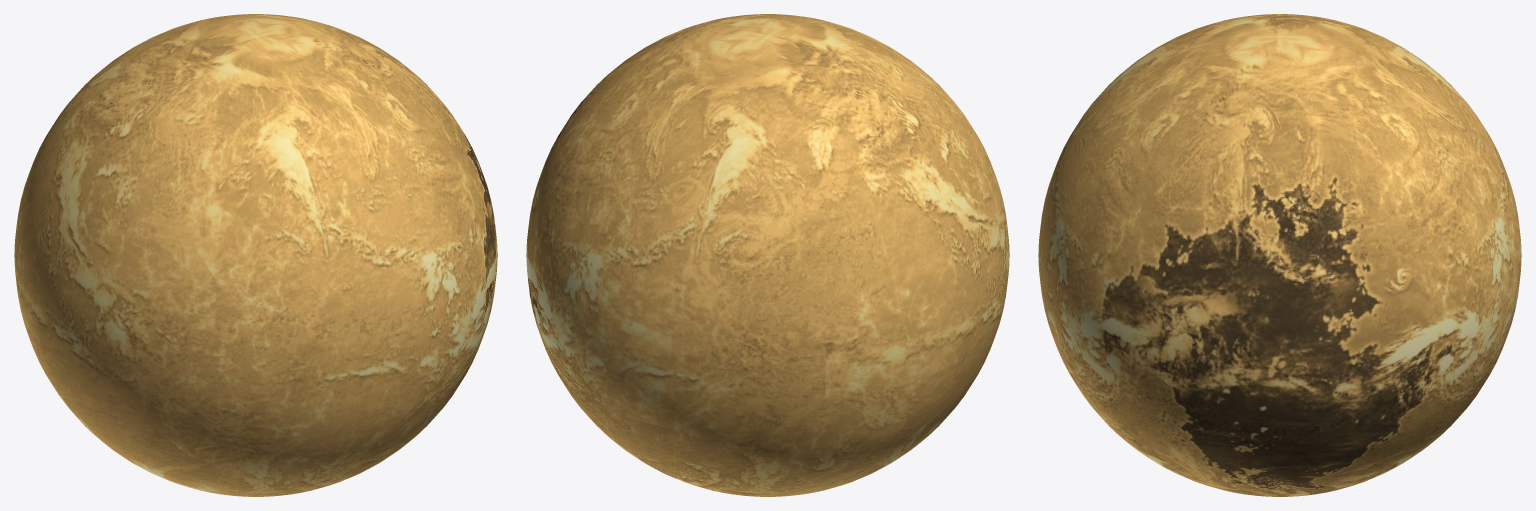
File: proxima_centauri_b.glb
The picture shows the model from 3 angles, left to right: view 1: azimuth 30°, elevation 25°; view 2: azimuth 150°, elevation 25°; view 3: azimuth 270°, elevation 25°; orthographic projection.
Visible parts, largest first — view 1: Sphere_0; view 2: Sphere_0; view 3: Sphere_0.
Part boxes in pixels (x1,y1,x2,y2): Sphere_0: (14, 14, 497, 496); Sphere_0: (526, 14, 1009, 496); Sphere_0: (1038, 14, 1521, 496).
Bounding box in the file's own units: 16 × 16 × 16.
1 material, 1 textured.
